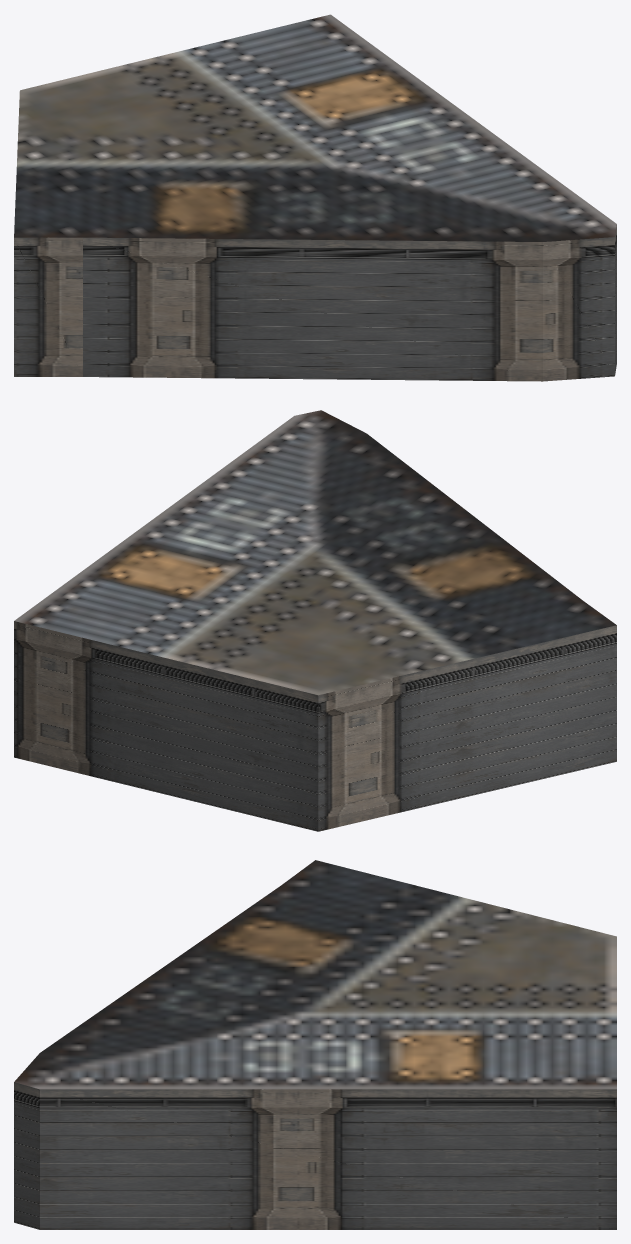
Rendered from hangar_heavy_a_33.glb.
3 renders of one model, top to bottom at view 1: azimuth 30°, elevation 25°; view 2: azimuth 150°, elevation 25°; view 3: azimuth 270°, elevation 25°, orthographic. The views are drawn at different scales.
Parts seen in each view (by area): view 1: buildings/saxarba/hangar_heavy/hangar_heavy_a_33; view 2: buildings/saxarba/hangar_heavy/hangar_heavy_a_33; view 3: buildings/saxarba/hangar_heavy/hangar_heavy_a_33.
Boxes of the visible parts, x1,y1,x2,y2 form: buildings/saxarba/hangar_heavy/hangar_heavy_a_33: [14, 14, 616, 381]; buildings/saxarba/hangar_heavy/hangar_heavy_a_33: [14, 410, 616, 831]; buildings/saxarba/hangar_heavy/hangar_heavy_a_33: [14, 860, 616, 1229].
Size of the model in its own units: 63 by 18 by 70.
